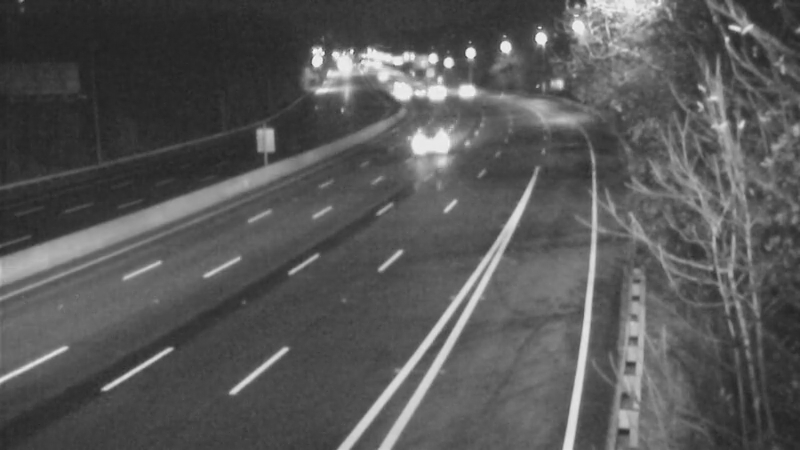vehicle: (441, 64, 491, 114), (409, 67, 459, 117), (395, 69, 445, 119), (376, 66, 426, 116), (409, 110, 459, 160)
